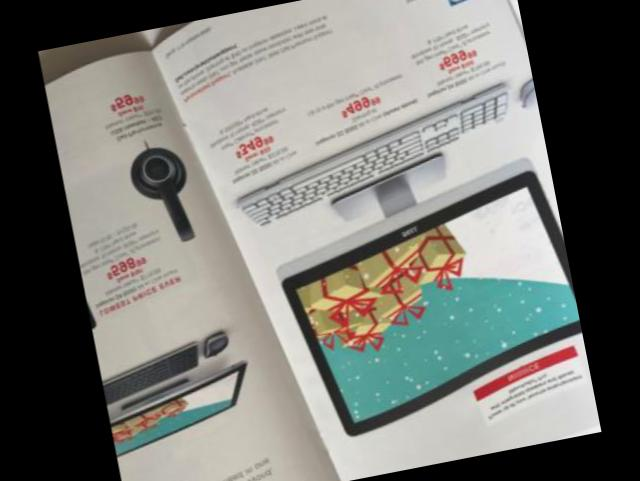cardboard paper: (46, 0, 601, 481)
